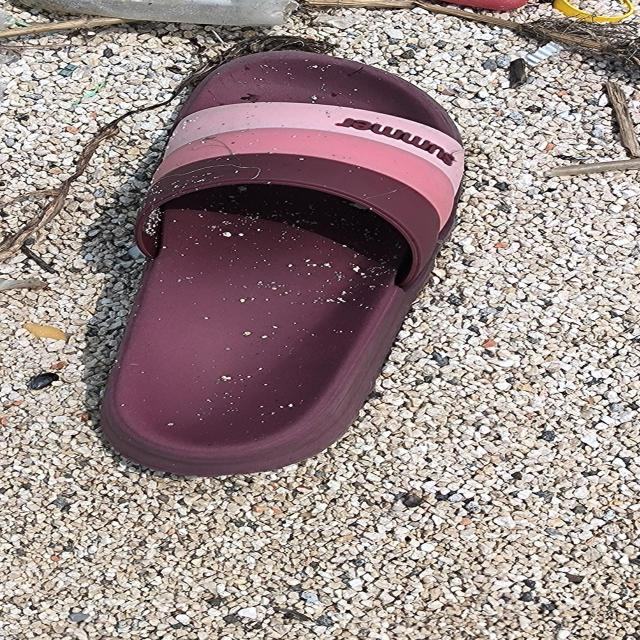rubber_waste: (98, 50, 468, 478)
